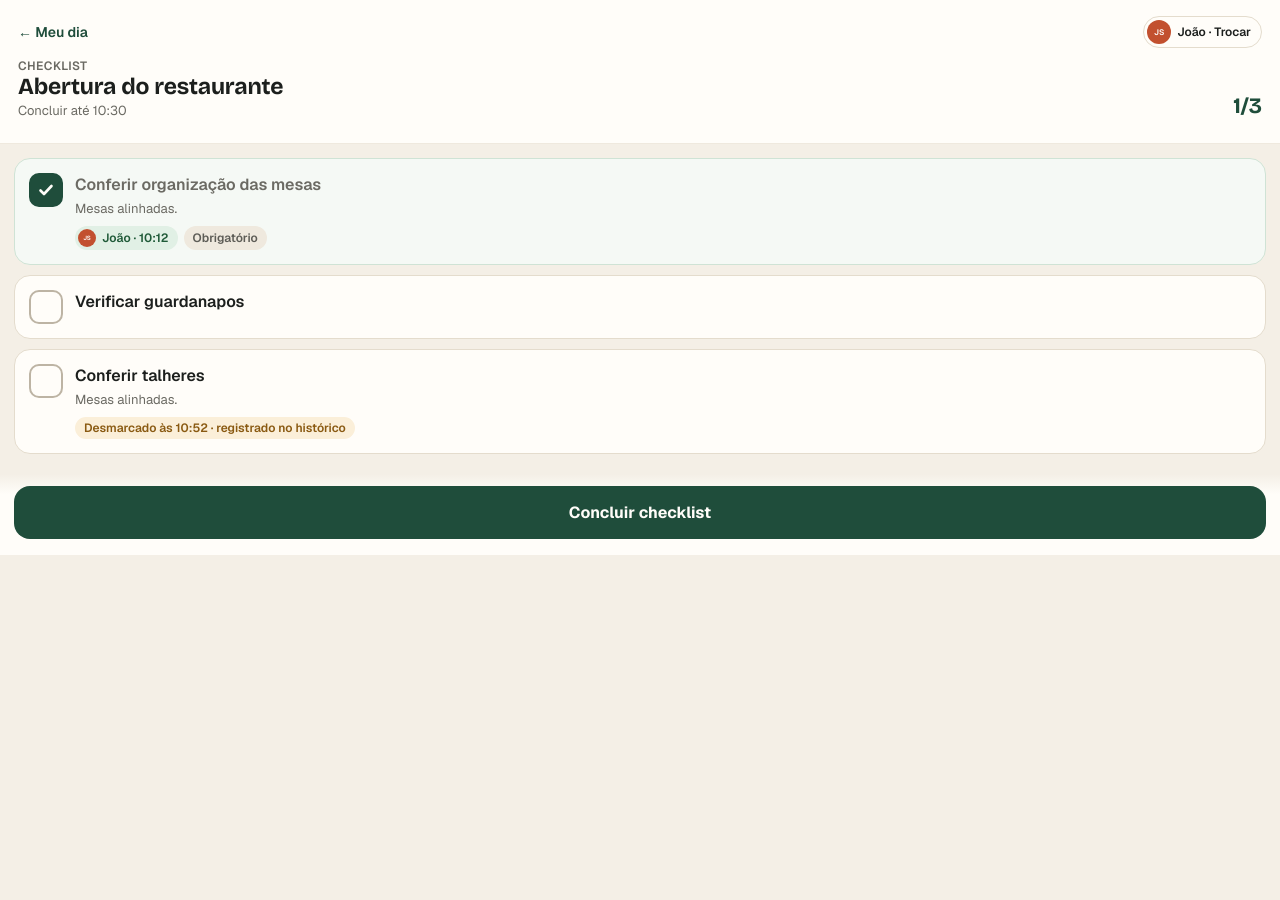
Test case: US04 — execução do checklist › desmarcar avisa que ficou registrado no histórico (sucesso)
What coordinates should you click on to do the following:
click the button named "Desmarcar Conferir organização das mesas"
I would click on:
 (46, 190)
Its box is [29,173,63,207].
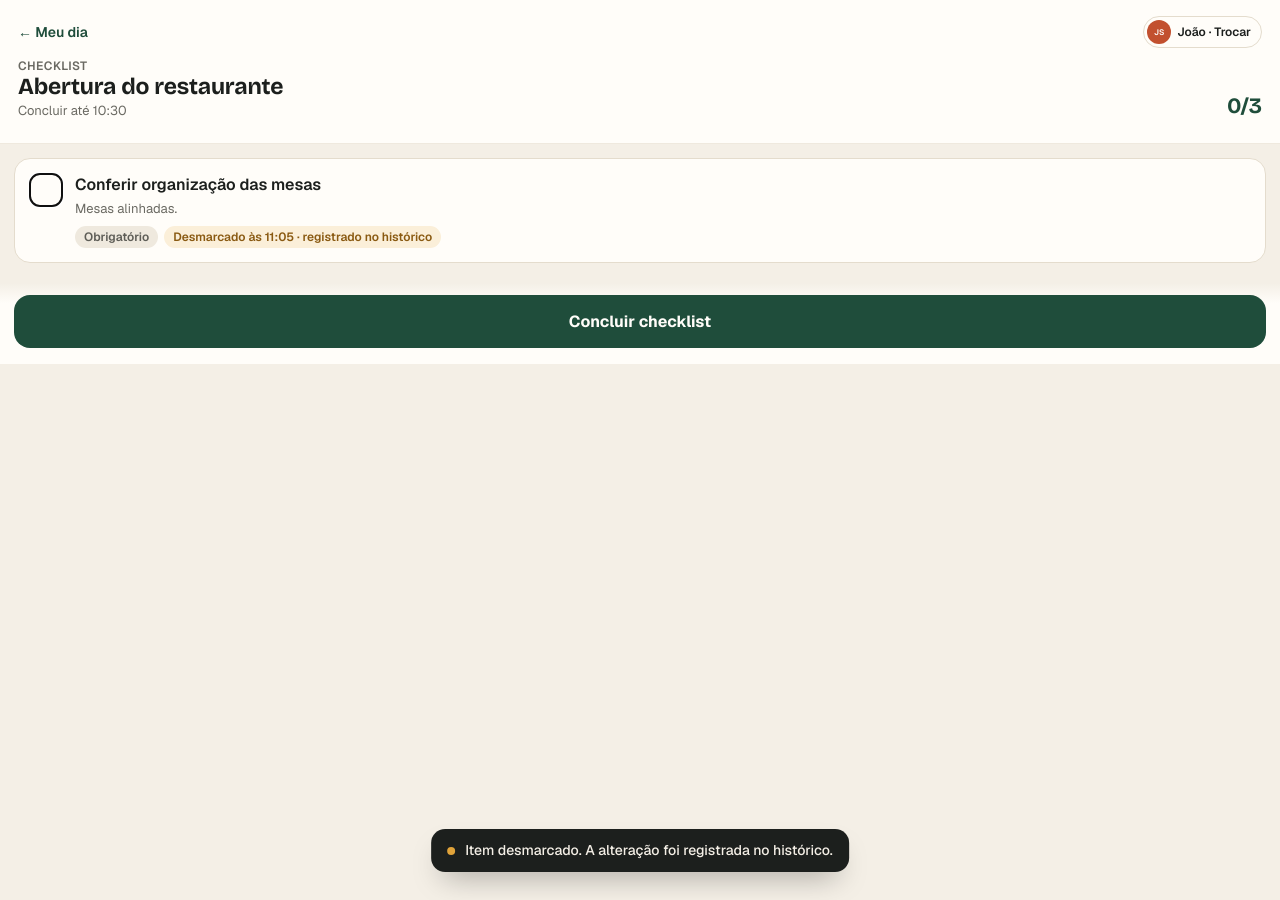
Check: the message reads "Item desmarcado. A alteração foi registrada no histórico.", box [465,841,833,859]
